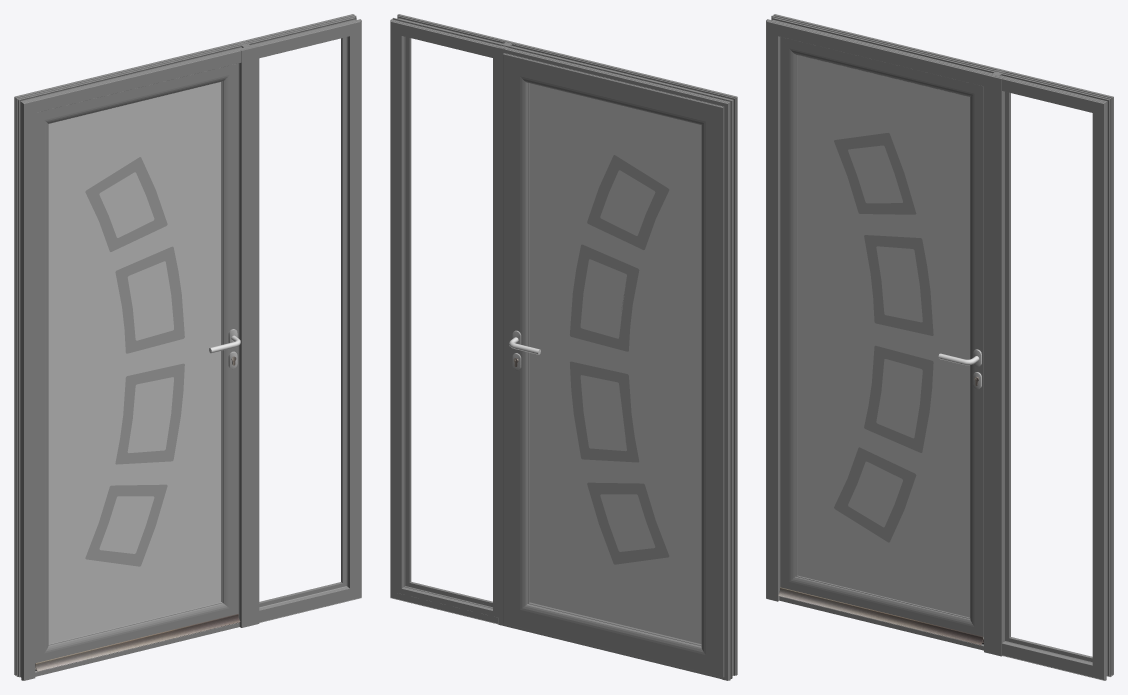
3 renders of one model, left to right at view 1: azimuth 30°, elevation 25°; view 2: azimuth 150°, elevation 25°; view 3: azimuth 330°, elevation 25°, orthographic.
Visible parts, largest first — view 1: fosco_24, aroFixo, aroMovel, montanteCentral, transparente_24, bite, borracha, escovas, rodaPe; view 2: fosco_24, aroMovel, aroFixo, transparente_24, bite, montanteCentral, borracha, rodaPe; view 3: fosco_24, aroFixo, aroMovel, montanteCentral, transparente_24, bite, escovas, borracha, rodaPe.
Part boxes in pixels (box(x1,y1,x2,y2)): fosco_24: box(48, 82, 221, 643); aroFixo: box(14, 14, 361, 680); aroMovel: box(35, 63, 238, 663); montanteCentral: box(238, 42, 259, 627); transparente_24: box(85, 157, 184, 566); bite: box(259, 37, 346, 607); borracha: box(259, 37, 345, 606); escovas: box(35, 614, 240, 671); rodaPe: box(35, 622, 239, 676); fosco_24: box(529, 83, 701, 644); aroMovel: box(503, 53, 724, 677); aroFixo: box(390, 14, 737, 680); transparente_24: box(570, 155, 669, 564); bite: box(396, 29, 498, 617); montanteCentral: box(498, 40, 518, 626); borracha: box(404, 36, 492, 608); rodaPe: box(505, 624, 721, 679); fosco_24: box(797, 55, 969, 617); aroFixo: box(766, 14, 1113, 680); aroMovel: box(780, 37, 983, 638); montanteCentral: box(984, 70, 1004, 656); transparente_24: box(834, 133, 933, 542); bite: box(1005, 91, 1092, 661); escovas: box(778, 587, 983, 645); borracha: box(1006, 92, 1092, 660); rodaPe: box(779, 596, 983, 650).
Bounding box in the file's own units: 1320 × 2149 × 185.
10 materials, 4 textured.
